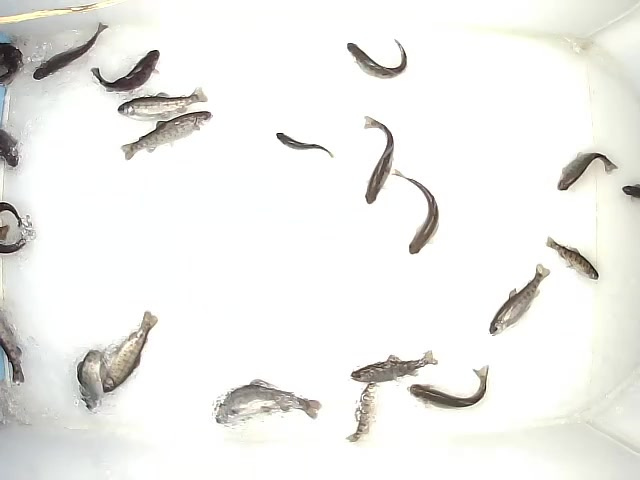fish: (214, 378, 323, 427), (100, 307, 160, 395), (30, 19, 110, 82), (119, 109, 213, 161), (393, 169, 441, 257), (406, 364, 491, 411), (117, 85, 209, 121), (89, 48, 162, 93), (362, 114, 396, 205), (543, 233, 602, 284), (488, 279, 535, 338), (555, 149, 619, 192), (346, 38, 409, 81), (350, 353, 430, 383), (76, 347, 110, 415), (345, 380, 379, 444), (1, 310, 27, 386), (276, 132, 336, 160)
